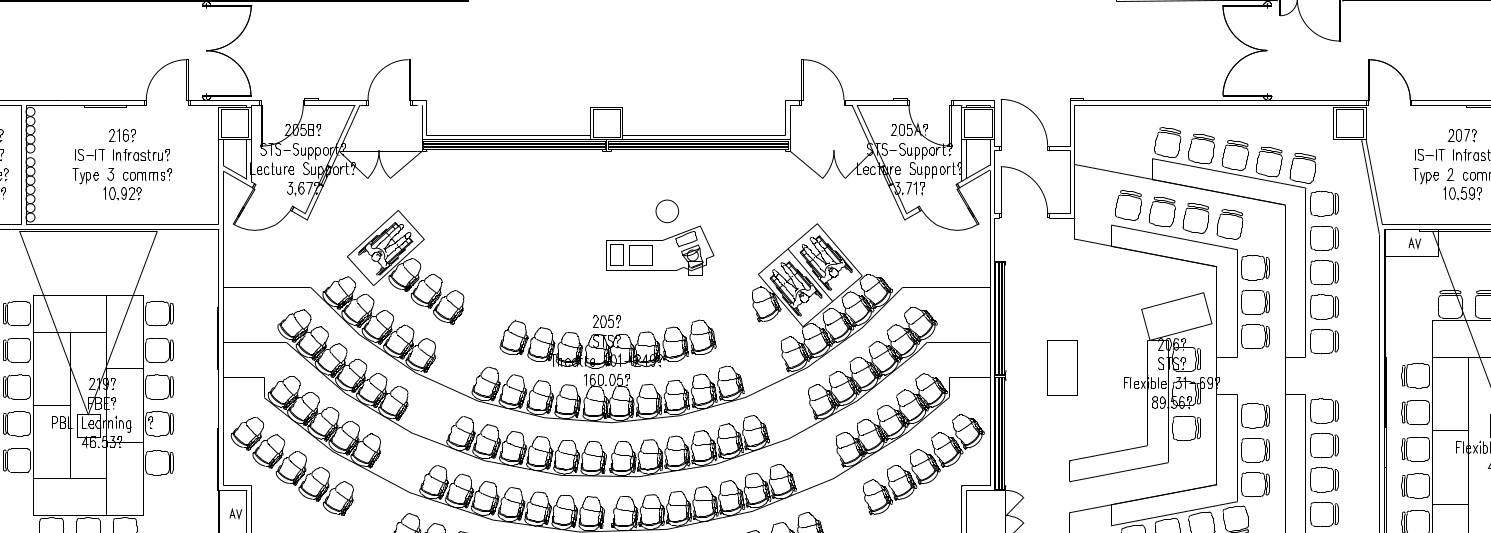door: (1208, 1, 1268, 98), (200, 2, 256, 99), (918, 180, 983, 241), (341, 142, 422, 186), (790, 144, 871, 188), (1276, 1, 1351, 48), (998, 91, 1053, 149), (998, 159, 1053, 217), (795, 45, 850, 103), (361, 42, 416, 100), (139, 50, 193, 104), (231, 181, 285, 235), (1361, 56, 1416, 102), (902, 105, 953, 154)
